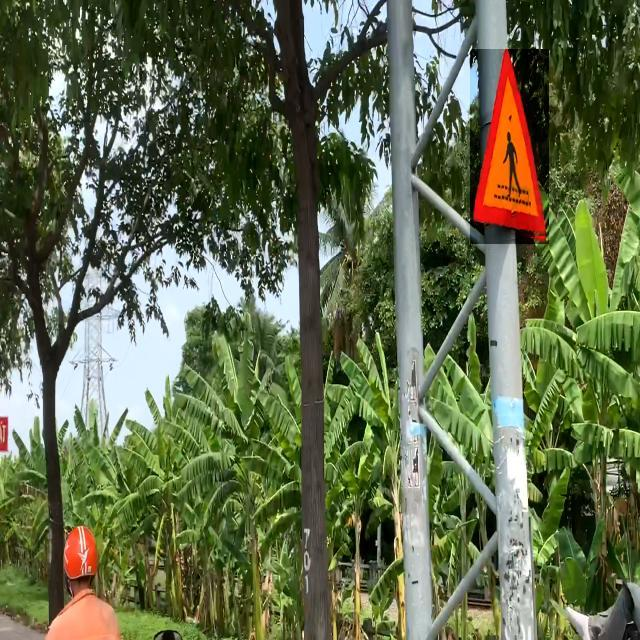W-224: (470, 49, 549, 244)
